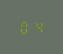four: (31, 20, 42, 34)
zero: (19, 20, 30, 34)
